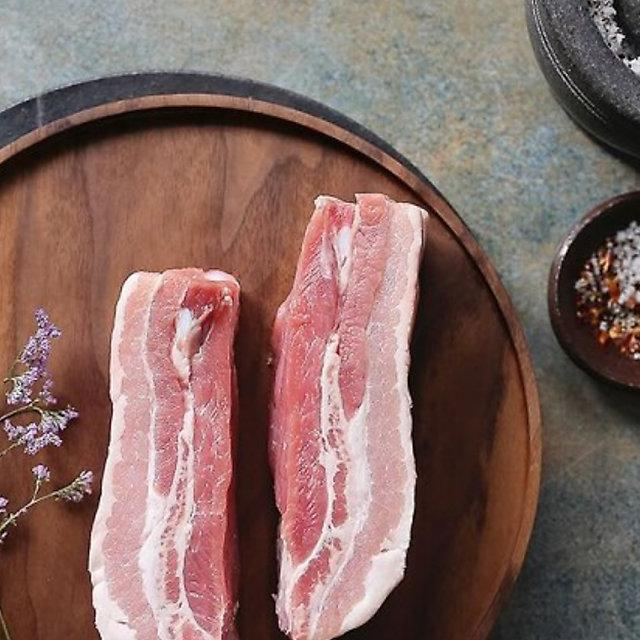beef: (272, 194, 428, 640), (87, 265, 239, 640)
